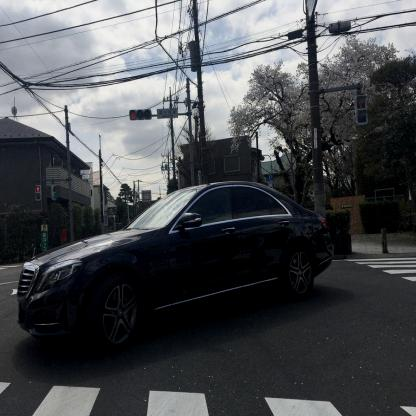Someiyoshino: (222, 14, 407, 172)
